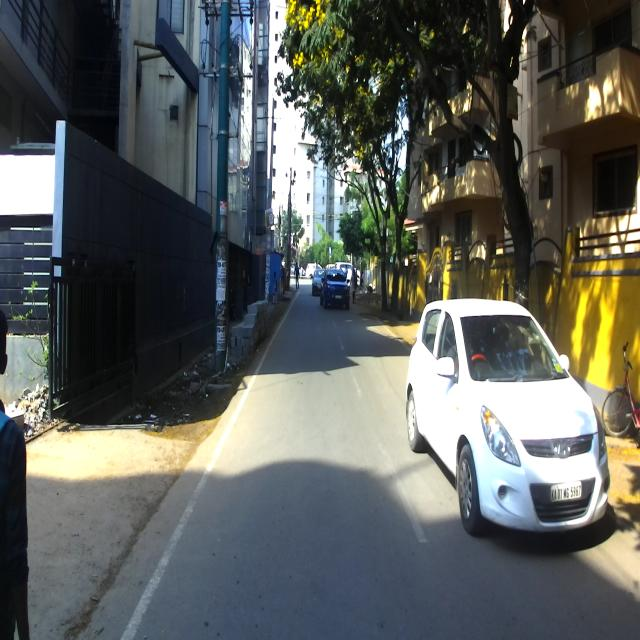car ahead at: (407, 297, 614, 547)
electric pole ahead at: (208, 0, 243, 382)
gate ahead at: (43, 250, 138, 412)
